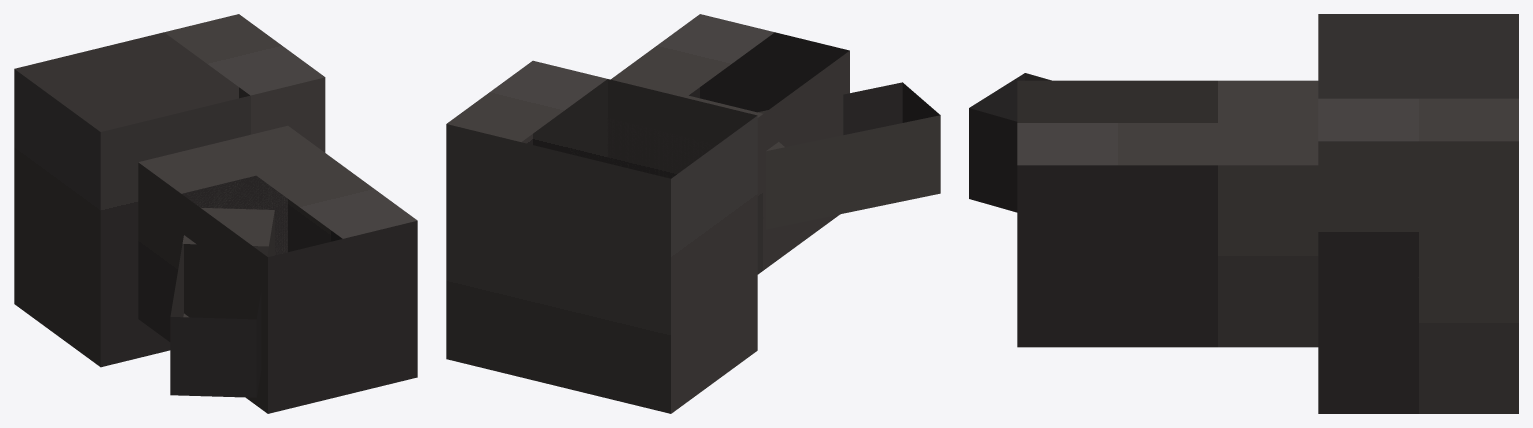
File: safety_valve.obj
3 views of the same model, side by side, from view 1: azimuth 30°, elevation 25°; view 2: azimuth 150°, elevation 25°; view 3: azimuth 270°, elevation 25° (orthographic). The views are drawn at different scales.
Bounding box in the file's own units: 0.2348 × 0.1875 × 0.3425.
